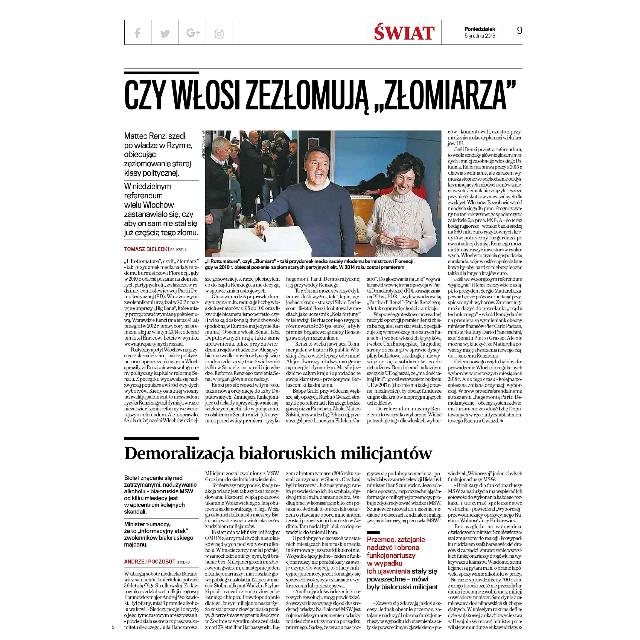article: (120, 69, 524, 427), (120, 436, 526, 634)
